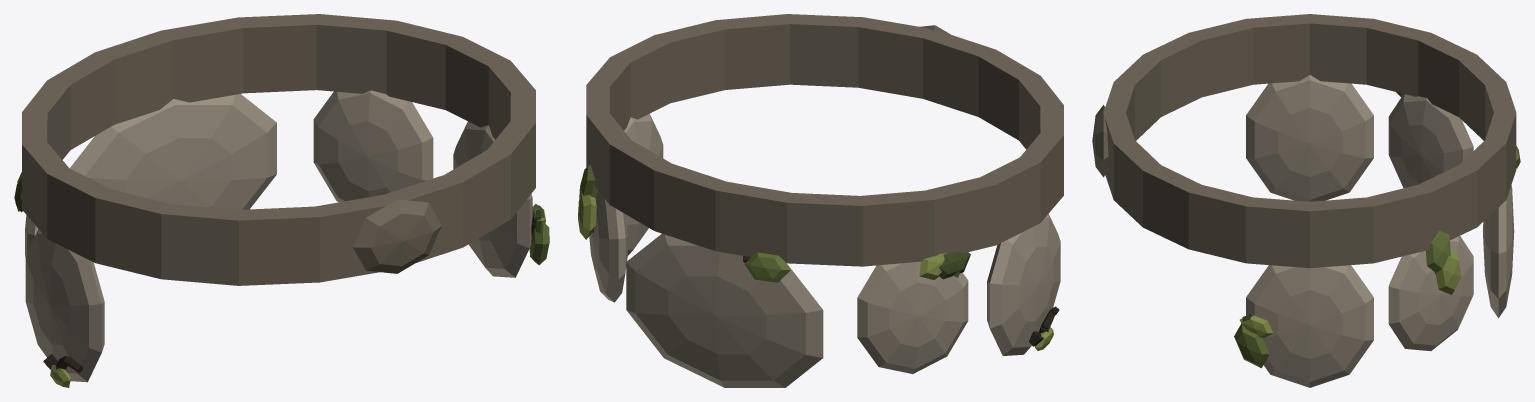
Rendered from petrified_belt.glb.
3 views of the same model, side by side, from view 1: azimuth 30°, elevation 25°; view 2: azimuth 150°, elevation 25°; view 3: azimuth 270°, elevation 25° (orthographic). The views are drawn at different scales.
Visible parts, largest first — view 1: petrified_belt; view 2: petrified_belt; view 3: petrified_belt.
Part boxes in pixels (x1,y1,x2,y2): petrified_belt: (14,14,549,387); petrified_belt: (578,14,1063,387); petrified_belt: (1092,14,1520,387).
Bounding box in the file's own units: 1.06 × 0.482 × 0.9544.
